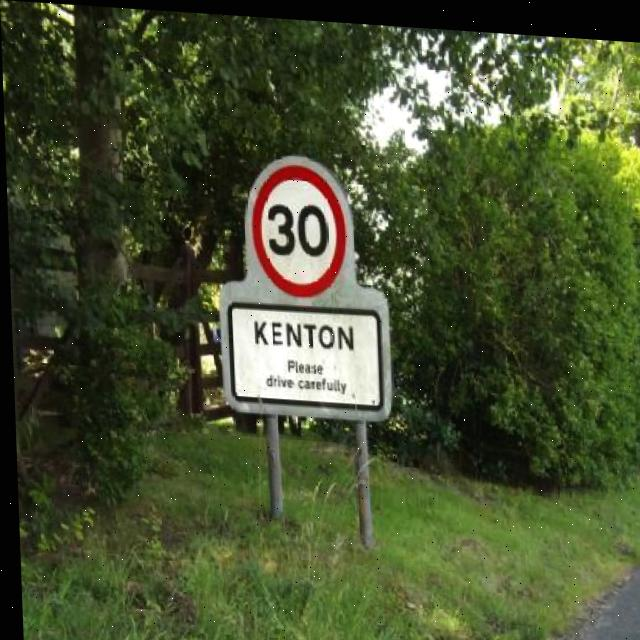Speed limit 30: (240, 146, 356, 298)
